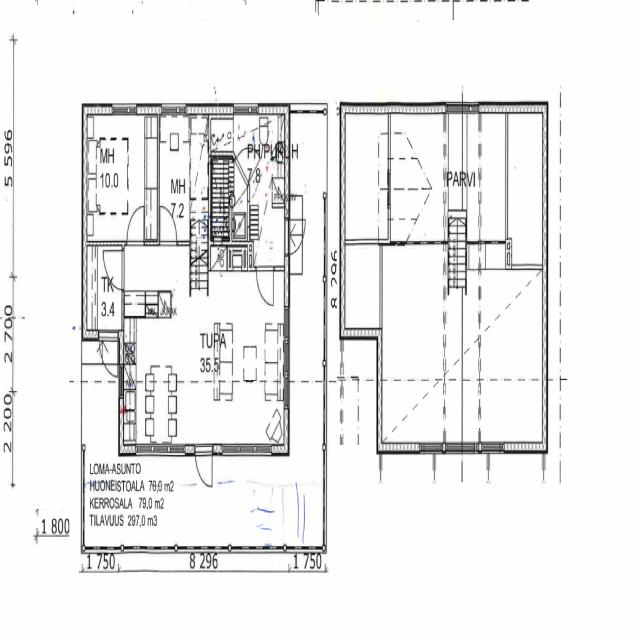door: (234, 132, 260, 186), (99, 330, 118, 380), (102, 250, 124, 289), (195, 446, 213, 492), (284, 220, 306, 253), (256, 265, 273, 305), (160, 207, 177, 246), (127, 207, 143, 246)
